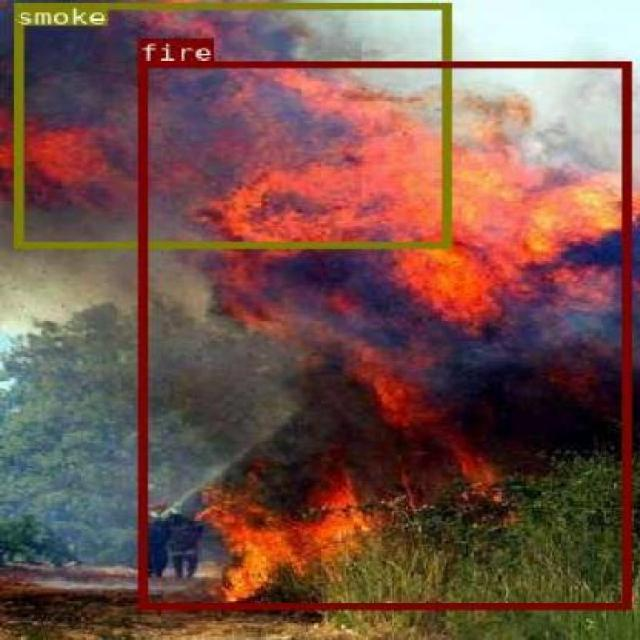Fire: (383, 334, 494, 548)
Smoke: (13, 1, 449, 247)
